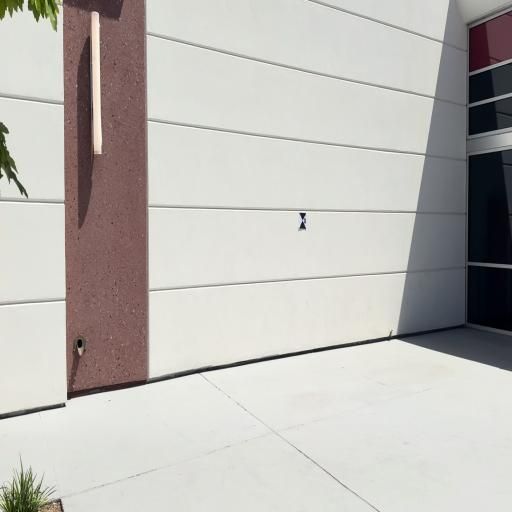target0: (299, 212, 307, 230)
